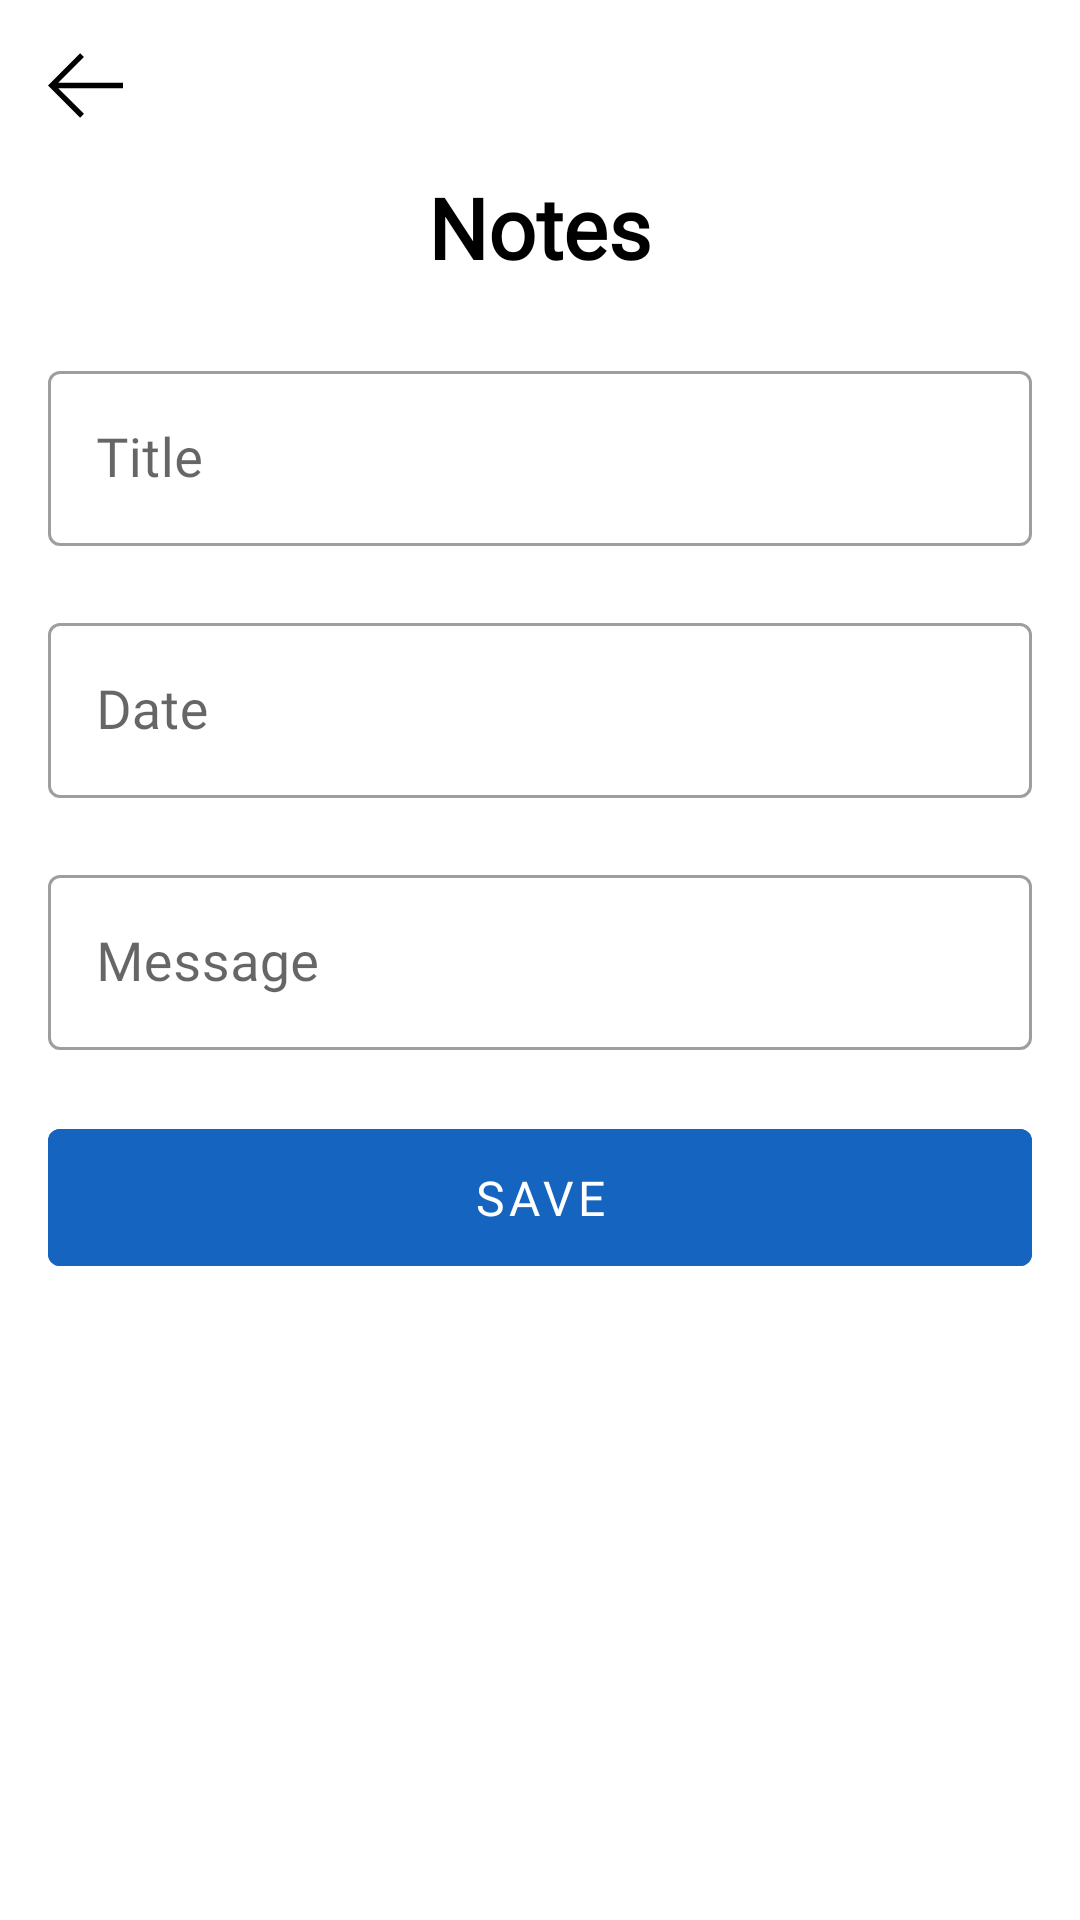

Named icons in this screenshot (1080 x 1920) and their centers, point (x, y):
back: point (85, 85)
